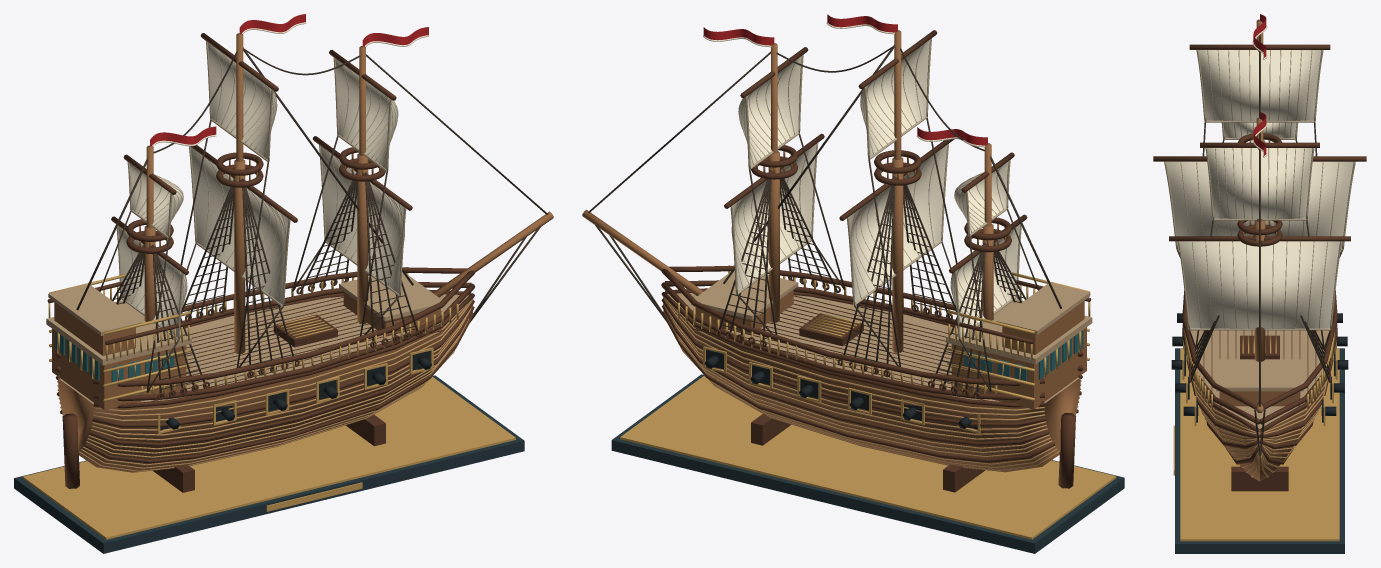
The model's file is meadow_crimson_galleon.glb.
The picture shows the model from 3 angles, left to right: view 1: azimuth 30°, elevation 25°; view 2: azimuth 150°, elevation 25°; view 3: azimuth 270°, elevation 25°; orthographic projection. The views are drawn at different scales.
Parts seen in each view (by area): view 1: Plinth gold reveal, Curved oak hull, Weather deck, Museum plinth, Main course, Fore course, Main topsail, Fore topsail, Raised sterncastle, Mizzen course, Sheer rail.001, Poop deck (+32 smaller); view 2: Plinth gold reveal, Curved oak hull, Museum plinth, Weather deck, Main course, Fore course, Main topsail, Fore topsail, Raised sterncastle, Mizzen course, Poop deck, Sheer rail.003 (+31 smaller); view 3: Plinth gold reveal, Fore course, Main topsail, Main course, Fore topsail, Museum plinth, Weather deck, Forecastle deck, Curved oak hull, Cradle support.001, Mizzen topsail, Fore course yard (+20 smaller).
Boxes of the visible parts, left/top/right/bottom form: Plinth gold reveal: left=22, top=376, right=515, bottom=539; Curved oak hull: left=58, top=307, right=464, bottom=472; Weather deck: left=59, top=294, right=468, bottom=403; Museum plinth: left=14, top=375, right=524, bottom=553; Main course: left=190, top=147, right=288, bottom=304; Fore course: left=320, top=146, right=404, bottom=293; Main topsail: left=207, top=42, right=276, bottom=158; Fore topsail: left=335, top=59, right=397, bottom=168; Raised sterncastle: left=52, top=329, right=186, bottom=410; Mizzen course: left=118, top=226, right=186, bottom=337; Sheer rail.001: left=93, top=270, right=475, bottom=386; Poop deck: left=48, top=284, right=141, bottom=335; Plinth gold reveal: left=620, top=375, right=1116, bottom=539; Curved oak hull: left=671, top=305, right=1080, bottom=472; Museum plinth: left=611, top=374, right=1124, bottom=553; Weather deck: left=667, top=293, right=1079, bottom=403; Main course: left=849, top=145, right=947, bottom=302; Fore course: left=732, top=144, right=816, bottom=291; Main topsail: left=860, top=39, right=930, bottom=156; Fore topsail: left=739, top=56, right=801, bottom=166; Raised sterncastle: left=951, top=327, right=1086, bottom=409; Mizzen course: left=951, top=224, right=1020, bottom=336; Poop deck: left=996, top=282, right=1090, bottom=334; Sheer rail.003: left=661, top=269, right=1044, bottom=385; Plinth gold reveal: left=1180, top=348, right=1339, bottom=541; Fore course: left=1180, top=241, right=1339, bottom=328; Main topsail: left=1198, top=50, right=1321, bottom=121; Main course: left=1166, top=161, right=1353, bottom=248; Fore topsail: left=1207, top=148, right=1312, bottom=219; Museum plinth: left=1175, top=348, right=1344, bottom=553; Weather deck: left=1190, top=330, right=1329, bottom=430; Forecastle deck: left=1216, top=359, right=1303, bottom=391; Curved oak hull: left=1195, top=383, right=1324, bottom=481; Cradle support.001: left=1231, top=466, right=1288, bottom=491; Mizzen topsail: left=1223, top=122, right=1296, bottom=138; Fore course yard: left=1169, top=236, right=1350, bottom=241.
Size of the model in its own units: 10.85 by 9.47 by 4.26.
